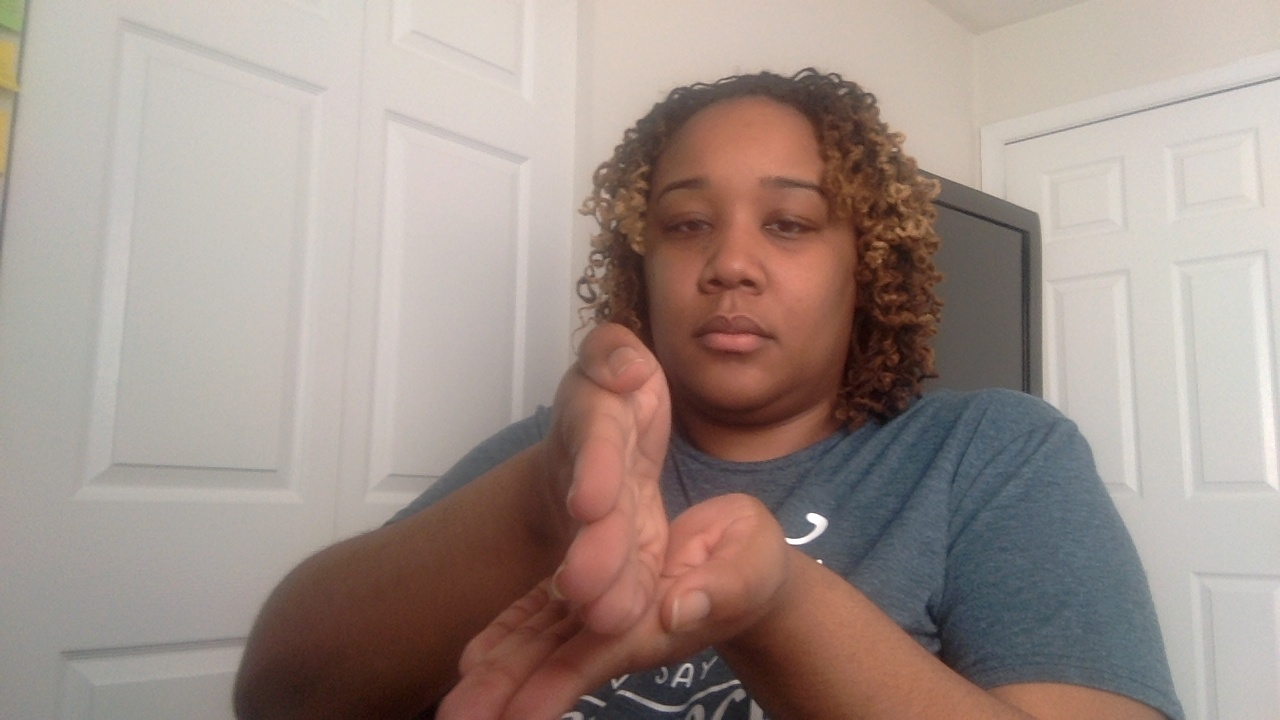stop: (430, 323, 783, 720)
